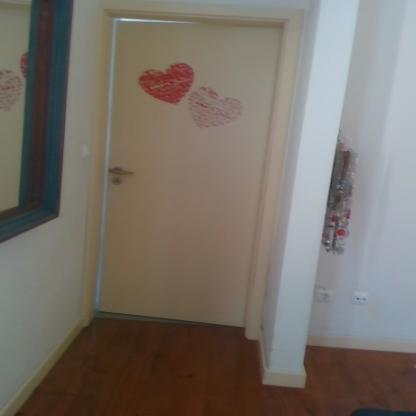door: (110, 20, 248, 320)
lever: (110, 168, 136, 179)
